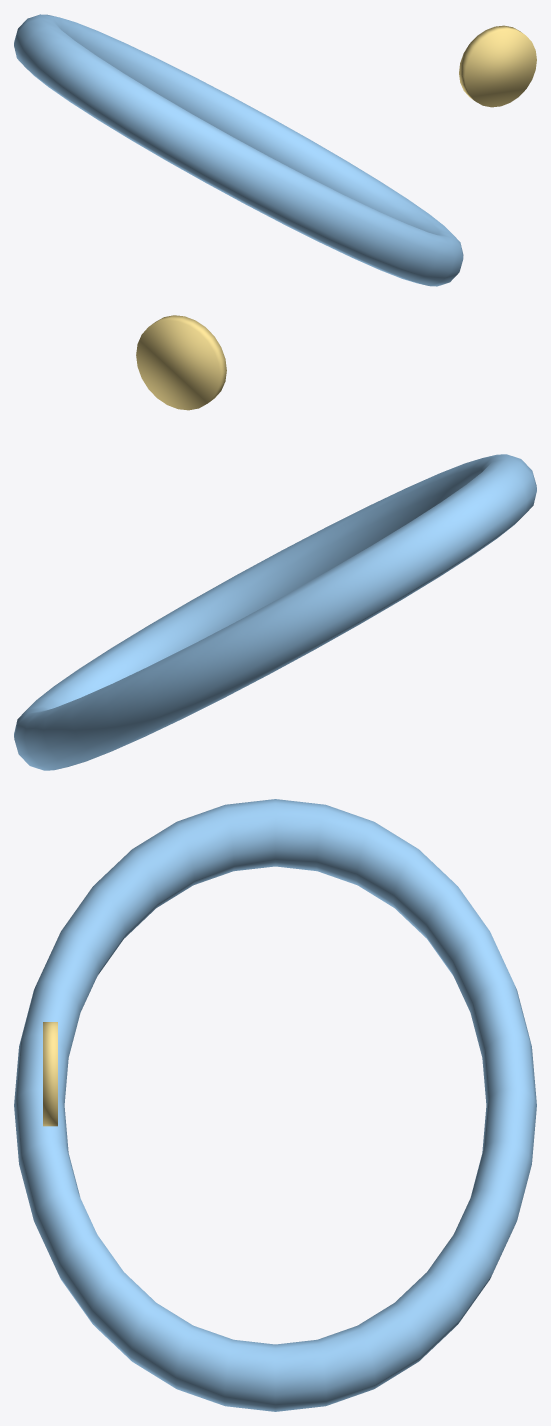
The model's file is sash.glb.
3 renders of one model, top to bottom at view 1: azimuth 30°, elevation 25°; view 2: azimuth 150°, elevation 25°; view 3: azimuth 270°, elevation 25°, orthographic. The views are drawn at different scales.
Parts seen in each view (by area): view 1: sash; view 2: sash; view 3: sash.
Part boxes in pixels (left/top/right/bottom): sash: left=14, top=14, right=536, bottom=286; sash: left=14, top=315, right=536, bottom=770; sash: left=14, top=799, right=536, bottom=1411.
Size of the model in its own units: 0.7889 by 0.5715 by 0.6975.
